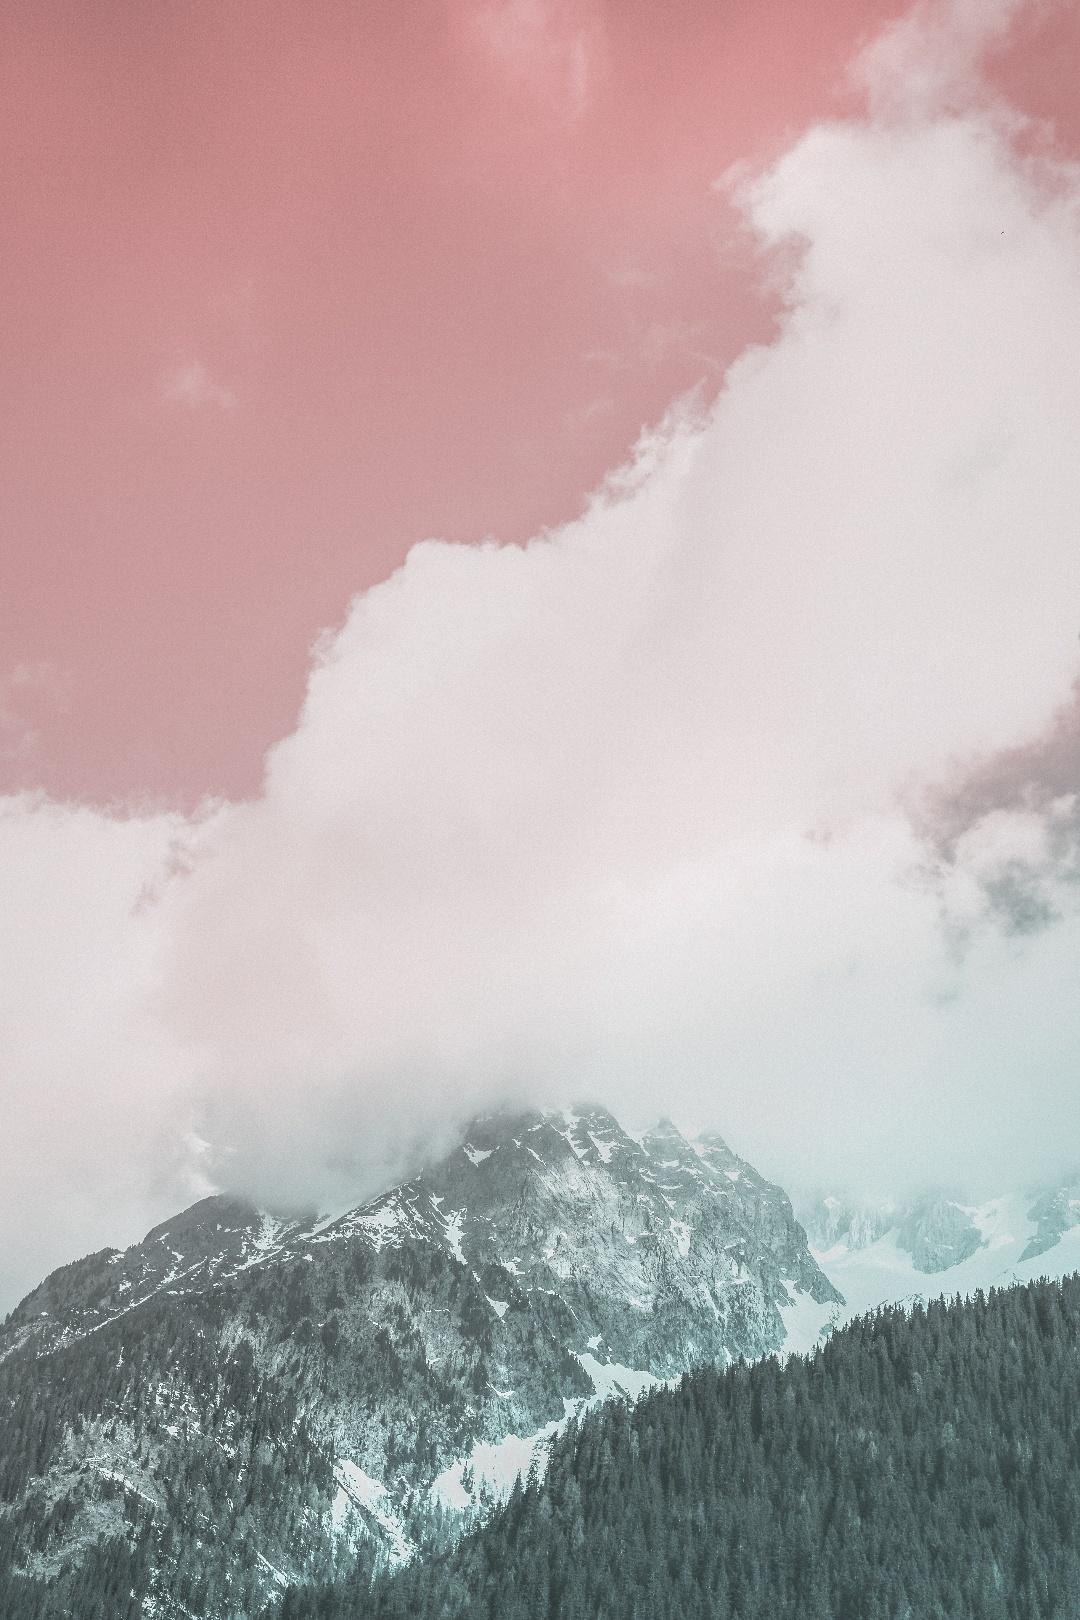glass: (1075, 614, 1080, 791)
